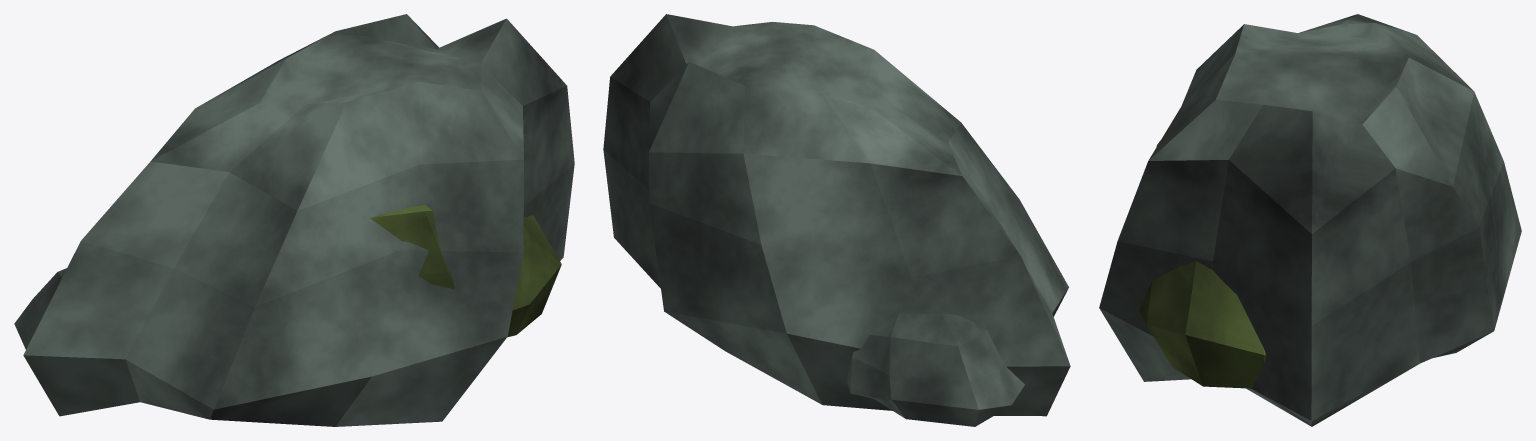
The model's file is rock0.glb.
3 views of the same model, side by side, from view 1: azimuth 30°, elevation 25°; view 2: azimuth 150°, elevation 25°; view 3: azimuth 270°, elevation 25° (orthographic). The views are drawn at different scales.
Parts seen in each view (by area): view 1: rock0; view 2: rock0; view 3: rock0.
Boxes of the visible parts, x1=… form: rock0: x1=14, y1=14, x2=574, y2=426; rock0: x1=603, y1=14, x2=1070, y2=426; rock0: x1=1099, y1=14, x2=1521, y2=426.
Size of the model in its own units: 2.76 by 1.57 by 1.74.
2 materials, 2 textured.
